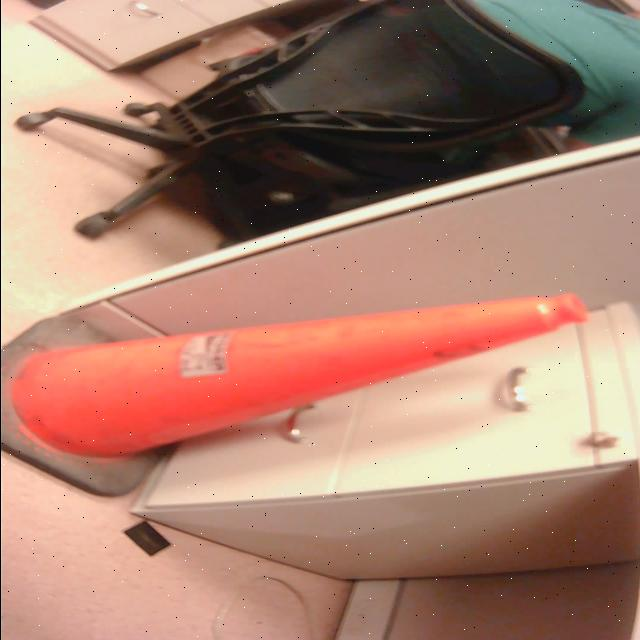traffic cone: (1, 289, 595, 506)
